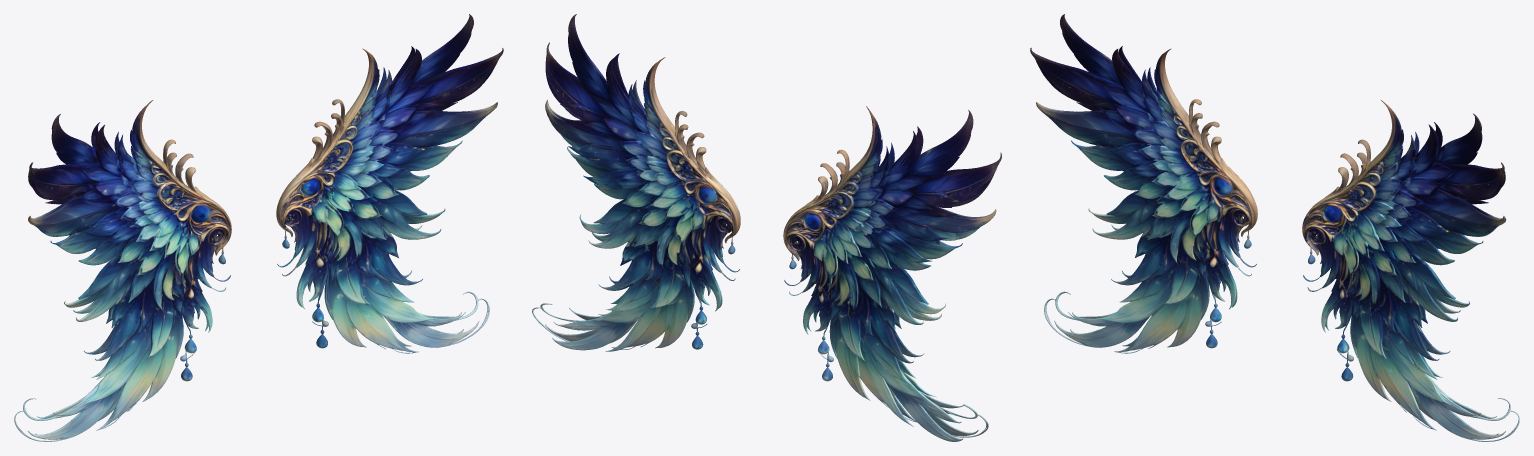
The model's file is HoneycombBloomsSaved.glb.
3 renders of one model, left to right at view 1: azimuth 30°, elevation 25°; view 2: azimuth 150°, elevation 25°; view 3: azimuth 330°, elevation 25°, orthographic. The views are drawn at different scales.
Parts seen in each view (by area): view 1: node_0; view 2: node_0; view 3: node_0.
Boxes of the visible parts, x1=… form: node_0: x1=14, y1=14, x2=503, y2=441; node_0: x1=532, y1=14, x2=1001, y2=441; node_0: x1=1030, y1=14, x2=1519, y2=441.
Size of the model in its own units: 1.03 by 0.7007 by 0.0784.
1 material, 1 textured.
